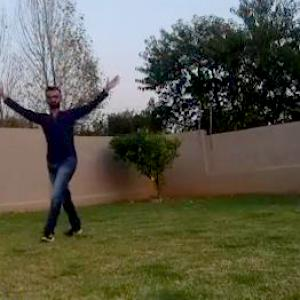takeoff: (1, 76, 123, 238)
